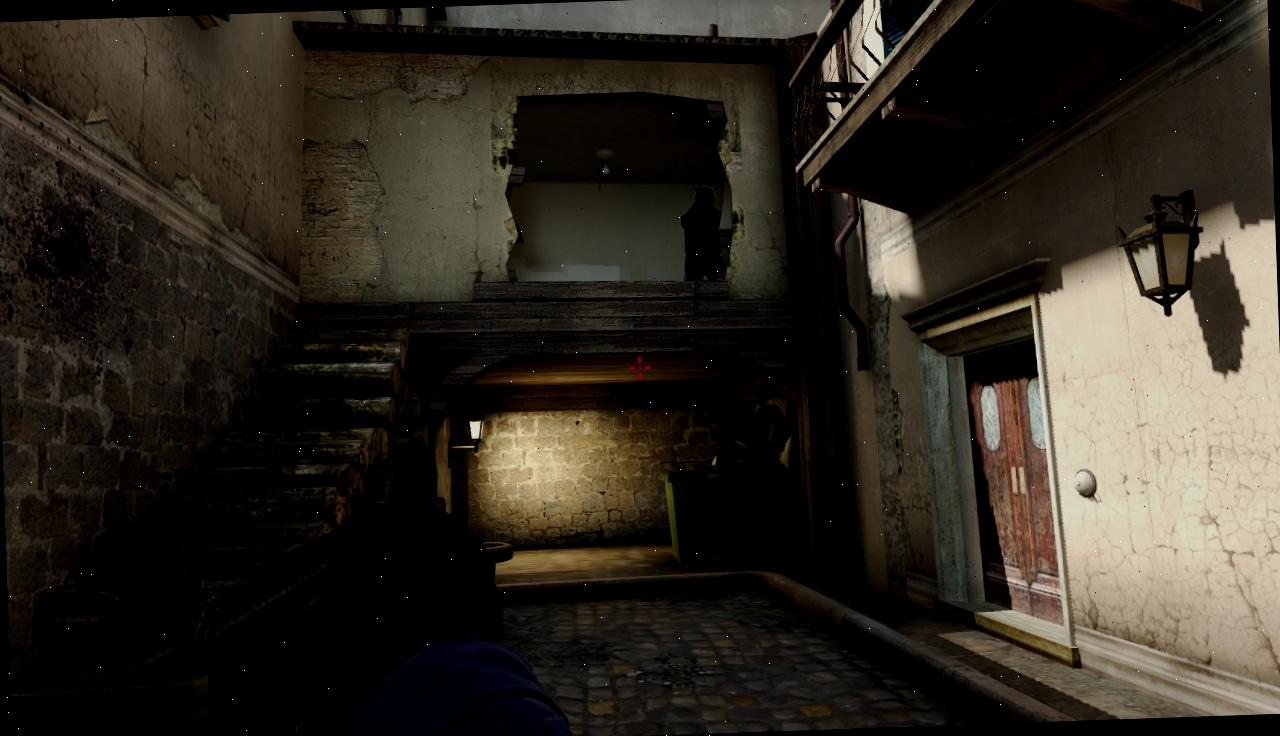ct: (682, 185, 722, 281)
cthead: (694, 187, 716, 207)
rifle: (35, 434, 466, 736)
